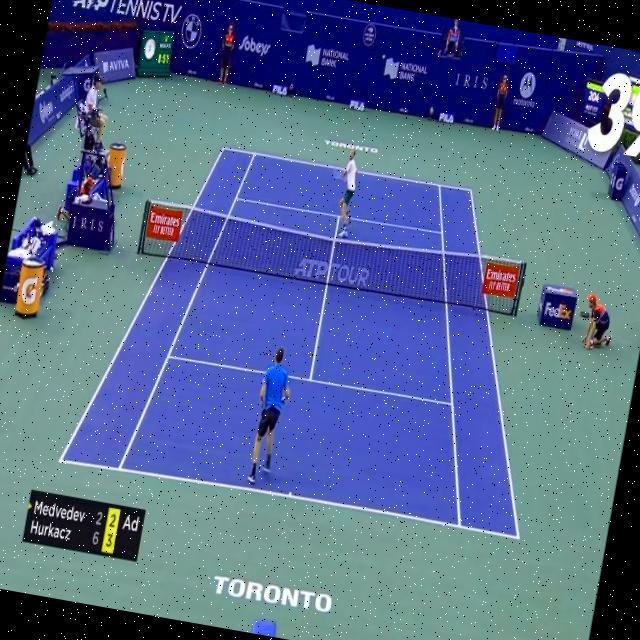court: (56, 125, 578, 542)
net: (134, 194, 526, 318)
player: (244, 345, 298, 489)
